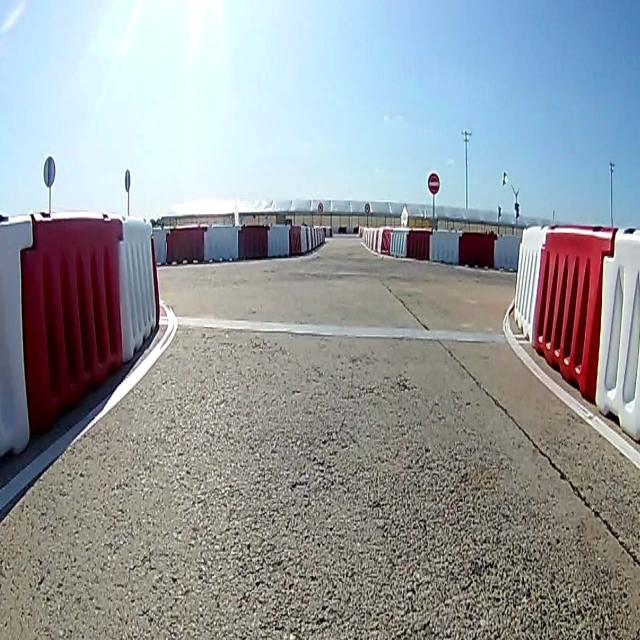girisyok: (427, 170, 441, 194)
